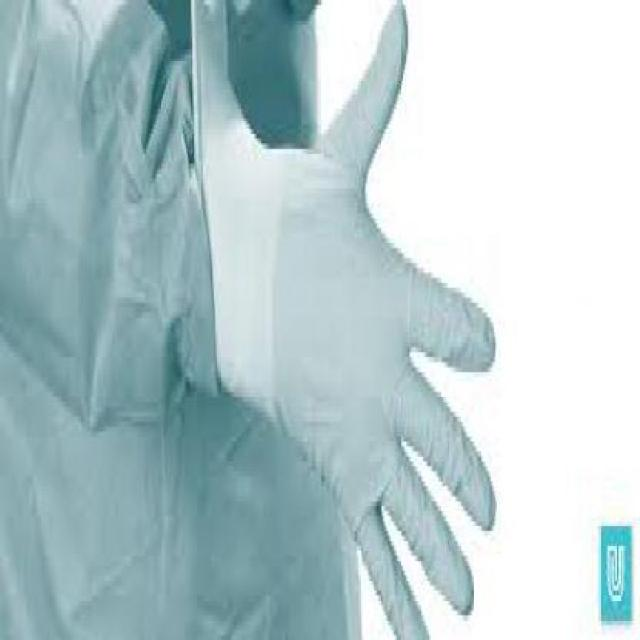B3: (202, 4, 528, 636)
